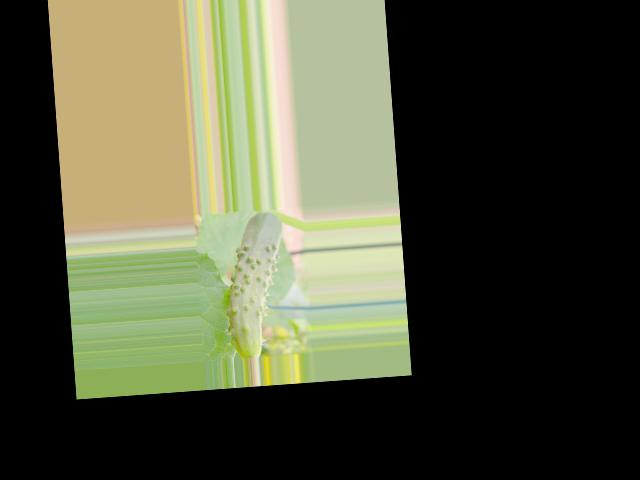cucumber: (219, 210, 291, 359)
